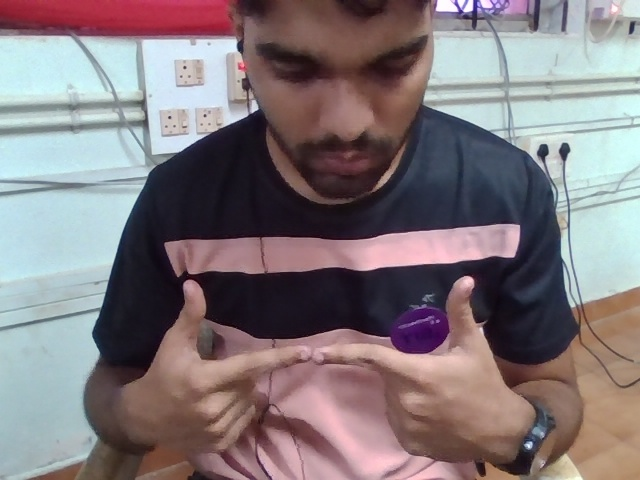hurt: (113, 261, 550, 469)
